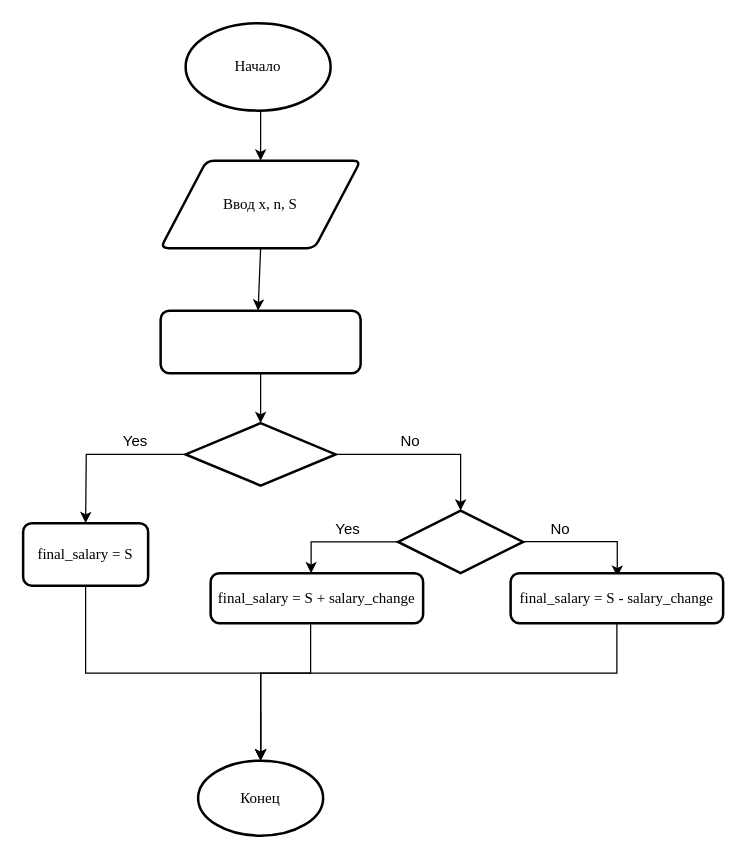
This 745x858 diagram has some shape labels left out. The box of each missing label's shape, as (x1, y1, x2, y2) in pixels:
n < x?: (396, 509, 524, 574)
n==x?: (184, 421, 336, 486)
percent_change_per_day: 50.0f / n: (159, 309, 361, 374)
